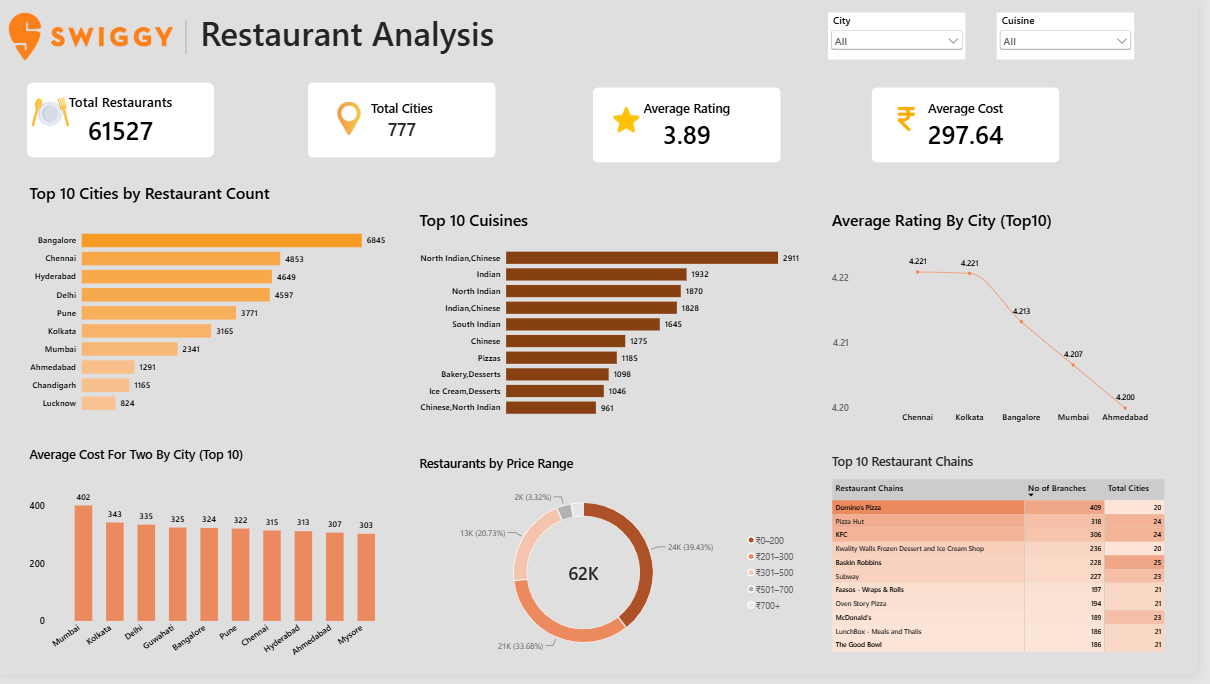

This screenshot's page, from the dashboard's own definition file:
{"tool":"powerbi","page":{"name":"Page 1","canvas":[1920,1080],"ordinal":0},"visuals":[{"type":"image","box":[16.2,7.7,265.5,101.8],"z":0},{"type":"cardVisual","fields":{"Data":["public swiggy.Total city"]},"box":[496.7,131.7,300,120],"z":0,"group":"g5"},{"type":"cardVisual","fields":{"Data":["public swiggy.Total_restaurant"]},"box":[46.1,132.2,300,120],"z":0,"group":"g4"},{"type":"cardVisual","fields":{"Data":["public swiggy.Average Cost"]},"box":[1397.5,139.2,300,120],"z":0,"group":"g3"},{"type":"group","id":"g1","title":"Group 5","box":[951.5,139.5,300,120],"z":0,"group":"g2"},{"type":"cardVisual","fields":{"Data":["public swiggy.avg rating"]},"box":[951.5,139.5,300,120],"z":0,"group":"g1"},{"type":"textbox","box":[323.1,16.9,507.3,81.8],"z":1000},{"type":"image","box":[54.4,144.9,60,68.9],"z":1000,"group":"g4"},{"type":"image","box":[532.3,158.9,59.4,59.4],"z":1000,"group":"g5"},{"type":"image","box":[984,167,42.5,47.5],"z":1000,"group":"g1"},{"type":"image","box":[1430,167.3,46.7,45],"z":1000,"group":"g3"},{"type":"shape","box":[228.5,31.5,145.5,54.5],"z":2000},{"type":"group","id":"g2","title":"Group 2","box":[951.5,139.5,300,120],"z":3000},{"type":"slicer","fields":{"Values":["public swiggy.city"]},"box":[1327.3,20.9,220,75.5],"z":4000},{"type":"slicer","fields":{"Values":["public swiggy.cuisine"]},"box":[1598.2,20.9,220,75],"z":5000},{"type":"clusteredBarChart","title":"Top 10 Cities by Restaurant Count","fields":{"Y":["public swiggy.No of Restaurants"],"Category":["public swiggy.city updated"]},"box":[34,276,602,422],"z":6000},{"type":"barChart","title":"Top 10 Cuisines","fields":{"Category":["public swiggy.cuisine"],"Y":["public swiggy.No of Restaurants"]},"box":[658,320,640,368.8],"z":7000},{"type":"lineChart","title":"Average Rating By City (Top10)","fields":{"Y":["public swiggy.avg rating"],"Category":["public swiggy.city updated"]},"box":[1318,320,602,378],"z":8000},{"type":"clusteredColumnChart","title":"Average Cost For Two By City (Top 10)","fields":{"Y":["public swiggy.Average Cost"],"Category":["public swiggy.city updated"]},"box":[34,698,624,382],"z":9000},{"type":"donutChart","title":"Restaurants by Price Range","fields":{"Y":["public swiggy.No of Restaurants"],"Category":["public swiggy.Price Range"]},"box":[658.9,712.2,640,367],"z":10000},{"type":"tableEx","title":"Top 10 Restaurant Chains","fields":{"Values":["public swiggy.name","public swiggy.No of Branches","public swiggy.Total Cities"]},"box":[1318.3,710,565,368.3],"z":11000},{"type":"group","id":"g3","title":"Group 1","box":[1397.5,139.2,300,120],"z":12000},{"type":"group","id":"g4","title":"Group 4","box":[46.1,132.2,300,120],"z":13000},{"type":"group","id":"g5","title":"Group 3","box":[496.7,131.7,300,120],"z":14000}]}

Visuals, with their boxes in screenshot pixels (x1, y1, x2, y2), scaled from the page's 1920x1080 canvas onto the 1210x684 screenshot:
image: crop(10, 5, 178, 69)
cardVisual - public swiggy.Total city: crop(313, 83, 502, 159)
cardVisual - public swiggy.Total_restaurant: crop(29, 84, 218, 160)
cardVisual - public swiggy.Average Cost: crop(881, 88, 1070, 164)
"Group 5" group: crop(600, 88, 789, 164)
cardVisual - public swiggy.avg rating: crop(600, 88, 789, 164)
textbox: crop(204, 11, 523, 63)
image: crop(34, 92, 72, 135)
image: crop(335, 101, 373, 138)
image: crop(620, 106, 647, 136)
image: crop(901, 106, 931, 134)
shape: crop(144, 20, 236, 54)
"Group 2" group: crop(600, 88, 789, 164)
slicer - public swiggy.city: crop(836, 13, 975, 61)
slicer - public swiggy.cuisine: crop(1007, 13, 1146, 61)
"Top 10 Cities by Restaurant Count" clusteredBarChart: crop(21, 175, 401, 442)
"Top 10 Cuisines" barChart: crop(415, 203, 818, 436)
"Average Rating By City (Top10)" lineChart: crop(831, 203, 1209, 442)
"Average Cost For Two By City (Top 10)" clusteredColumnChart: crop(21, 442, 415, 683)
"Restaurants by Price Range" donutChart: crop(415, 451, 819, 683)
"Top 10 Restaurant Chains" tableEx: crop(831, 450, 1187, 683)
"Group 1" group: crop(881, 88, 1070, 164)
"Group 4" group: crop(29, 84, 218, 160)
"Group 3" group: crop(313, 83, 502, 159)
